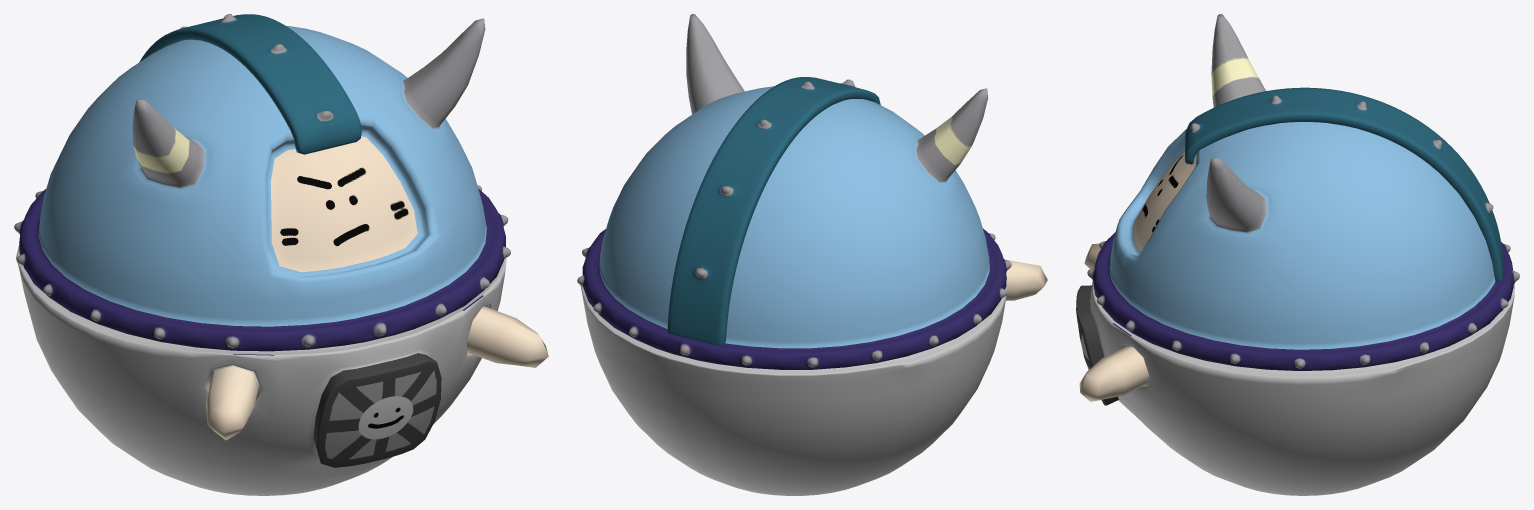
3 renders of one model, left to right at view 1: azimuth 30°, elevation 25°; view 2: azimuth 150°, elevation 25°; view 3: azimuth 270°, elevation 25°, orthographic. The views are drawn at different scales.
Parts seen in each view (by area): view 1: 狂戰士, Box001; view 2: 狂戰士, Box001; view 3: 狂戰士, Box001.
Part boxes in pixels (bbox=[...]): 狂戰士: bbox=[14, 18, 548, 495]; Box001: bbox=[139, 14, 361, 154]; 狂戰士: bbox=[577, 14, 1047, 495]; Box001: bbox=[667, 77, 880, 345]; 狂戰士: bbox=[1076, 14, 1519, 495]; Box001: bbox=[1185, 87, 1502, 281].
Size of the model in its own units: 31.96 by 31.94 by 32.8.
Materials: 2 (2 with a texture image).
